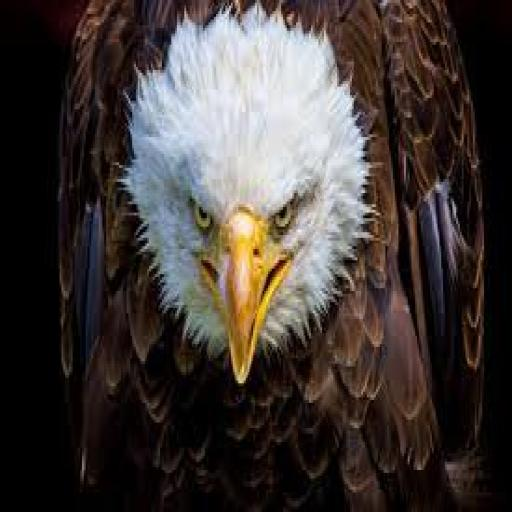eagle: (24, 0, 494, 512)
